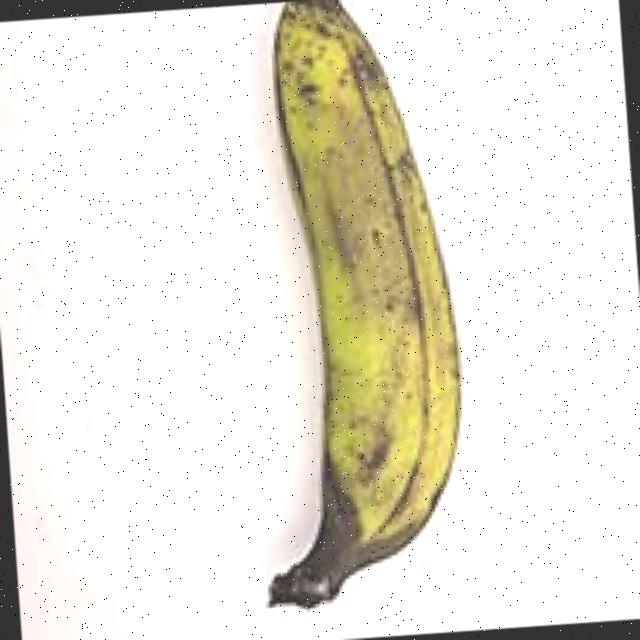Overripe: (156, 0, 532, 629)
